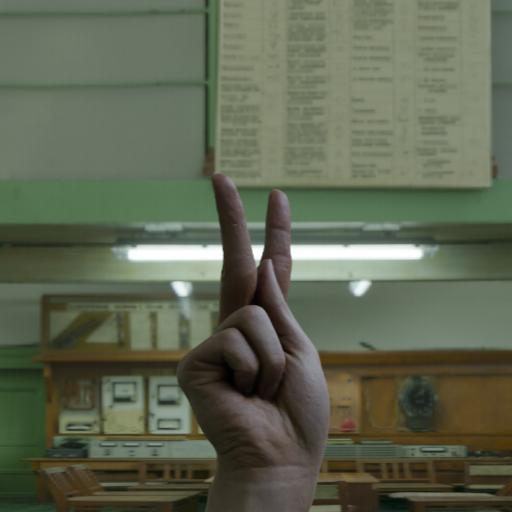K: (153, 142, 403, 512)
